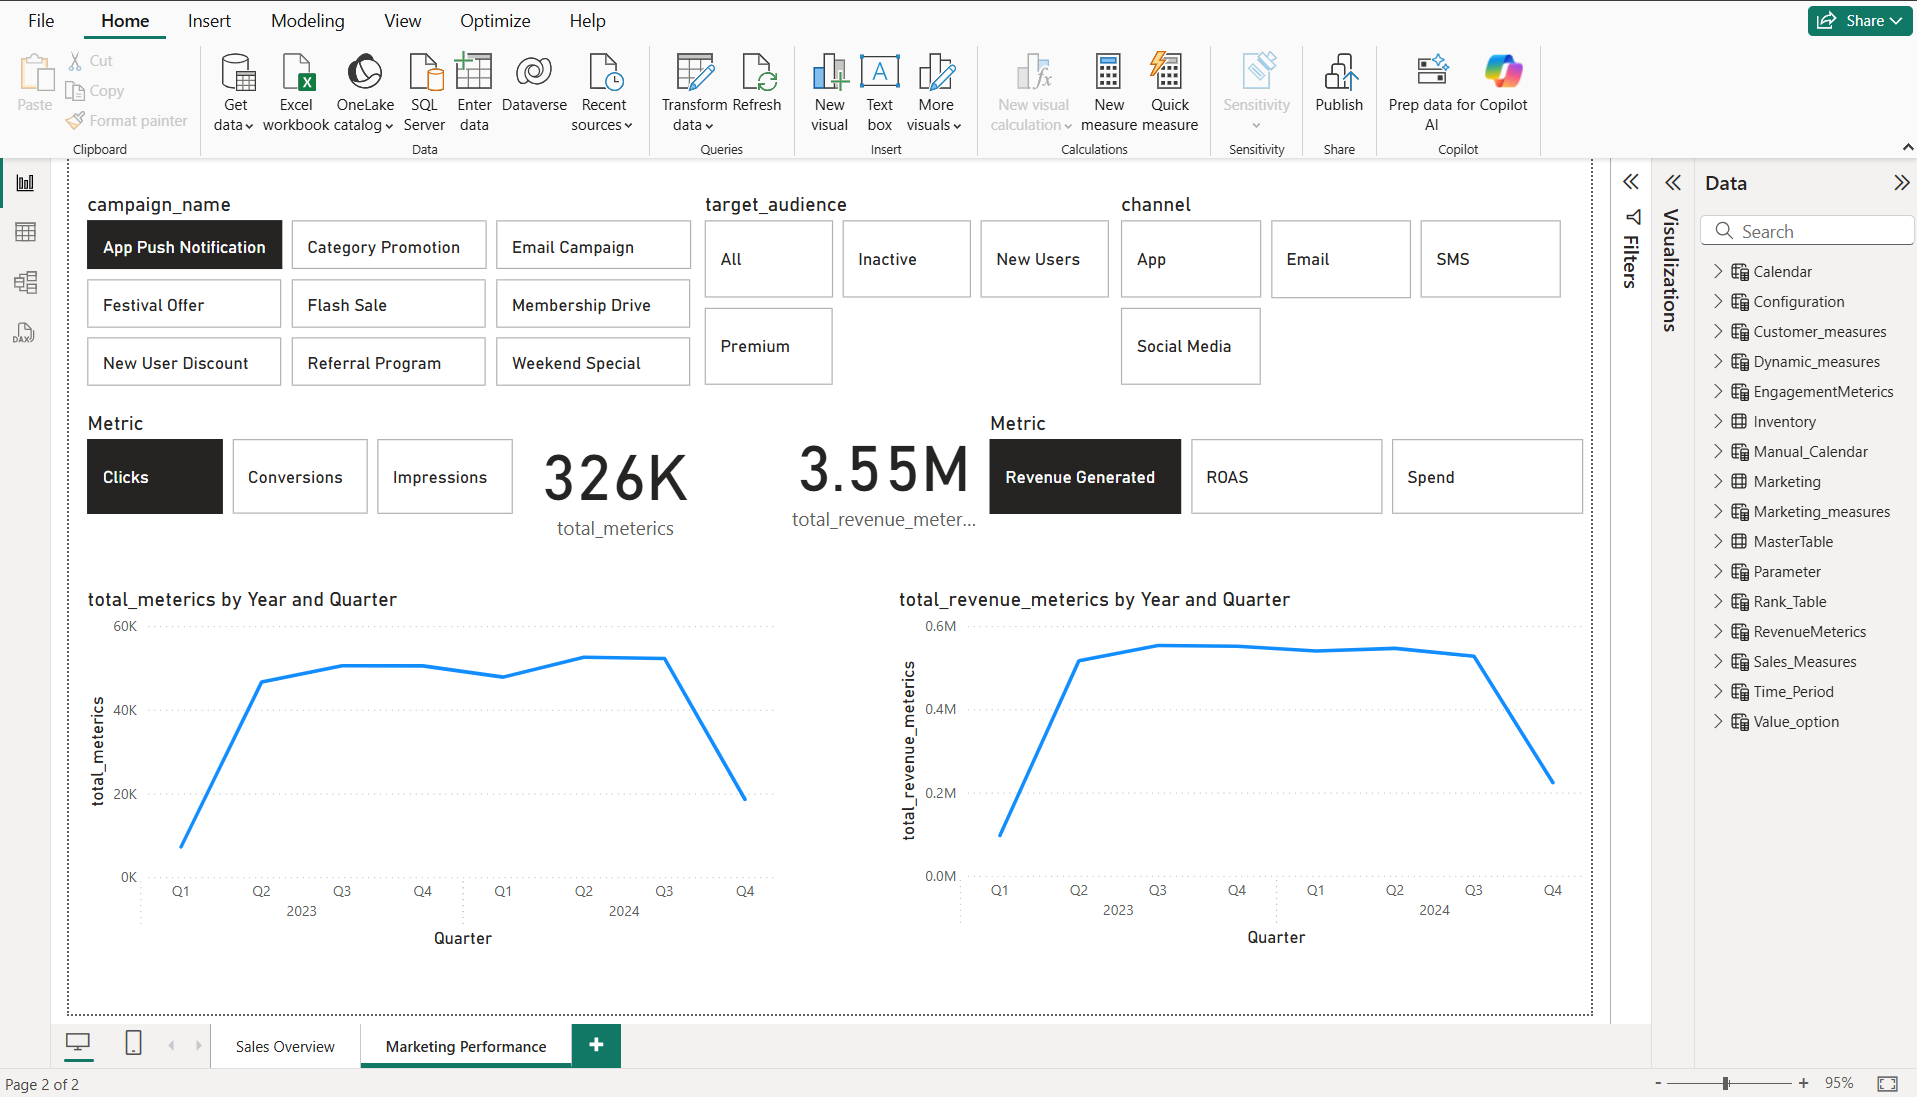

The dashboard page shown, as its layout file describes it:
{"tool":"powerbi","page":{"name":"Marketing Performance","canvas":[1280,720],"ordinal":1},"visuals":[{"type":"advancedSlicerVisual","fields":{"Values":["Marketing.campaign_name"]},"box":[10.5,27.9,519.8,168.6],"z":0},{"type":"advancedSlicerVisual","fields":{"Values":["Marketing.target_audience"]},"box":[530.2,27.9,350,168.6],"z":1000},{"type":"advancedSlicerVisual","fields":{"Values":["Marketing.channel"]},"box":[880.2,27.9,381.4,168.6],"z":2000},{"type":"advancedSlicerVisual","fields":{"Values":["EngagementMeterics.Metric"]},"box":[10.5,212.8,368.6,93],"z":3000},{"type":"advancedSlicerVisual","fields":{"Values":["RevenueMeterics.Metric"]},"box":[769.8,212.8,510.5,93],"z":4000},{"type":"card","fields":{"Values":["Marketing_measures.Sum_impressions"]},"box":[374.4,217.4,170.9,110.5],"z":5000},{"type":"lineChart","fields":{"Category":["Calendar.Year","Calendar.Quarter","Calendar.Month"],"Y":["Marketing_measures.total_meterics"]},"box":[10.5,360.5,590.7,309.3],"z":6000},{"type":"card","fields":{"Values":["Marketing_measures.total_revenue_meterics"]},"box":[601.2,212.8,168.6,104.7],"z":7000},{"type":"lineChart","fields":{"Category":["Calendar.Year","Calendar.Quarter","Calendar.Month"],"Y":["Marketing_measures.total_revenue_meterics"]},"box":[693,360.5,587.2,308.1],"z":8000}]}

Visuals, with their boxes on the page's 1280x720 design canvas (x1, y1, x2, y2). These are canvas units, not pixel positions in the 1917x1097 screenshot, which may show the page scaled, cropped or inside an application window:
advancedSlicerVisual - Marketing.campaign_name: x1=10, y1=28, x2=530, y2=196
advancedSlicerVisual - Marketing.target_audience: x1=530, y1=28, x2=880, y2=196
advancedSlicerVisual - Marketing.channel: x1=880, y1=28, x2=1262, y2=196
advancedSlicerVisual - EngagementMeterics.Metric: x1=10, y1=213, x2=379, y2=306
advancedSlicerVisual - RevenueMeterics.Metric: x1=770, y1=213, x2=1280, y2=306
card - Marketing_measures.Sum_impressions: x1=374, y1=217, x2=545, y2=328
lineChart - Calendar.Year x Calendar.Quarter: x1=10, y1=360, x2=601, y2=670
card - Marketing_measures.total_revenue_meterics: x1=601, y1=213, x2=770, y2=318
lineChart - Calendar.Year x Calendar.Quarter: x1=693, y1=360, x2=1280, y2=669
